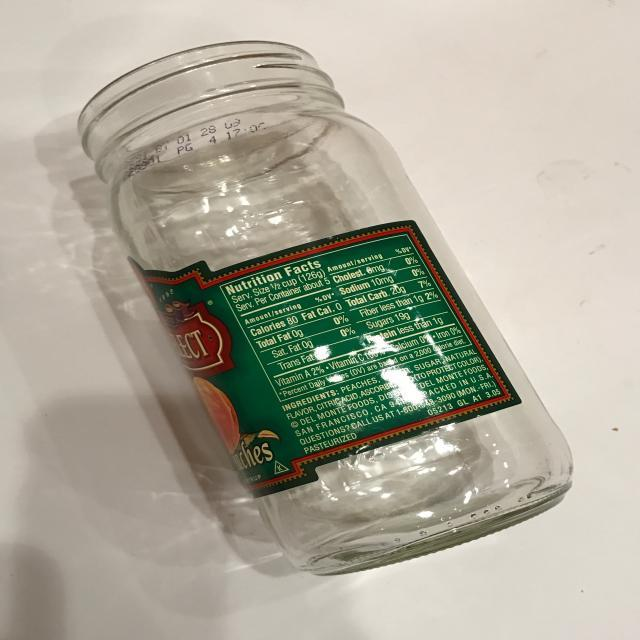glass: (72, 40, 578, 578)
